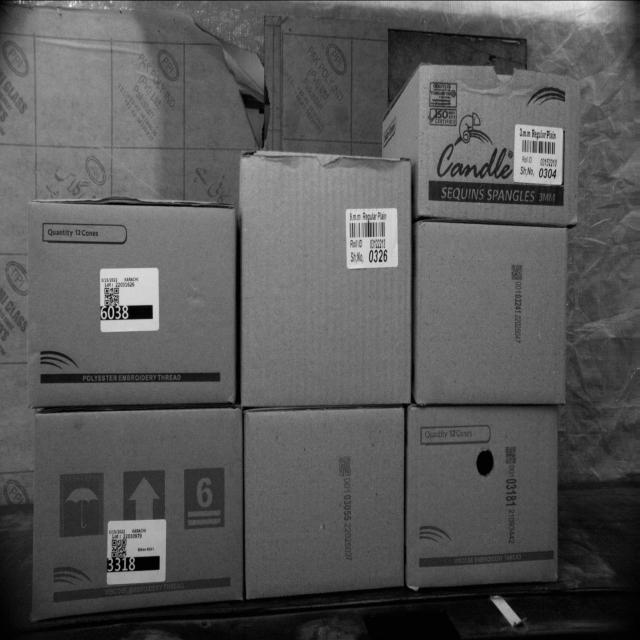box: (31, 412, 244, 620), (25, 198, 239, 404), (240, 158, 408, 406), (242, 408, 408, 596), (412, 222, 568, 404), (408, 403, 558, 584), (418, 58, 574, 226), (624, 261, 630, 263)
